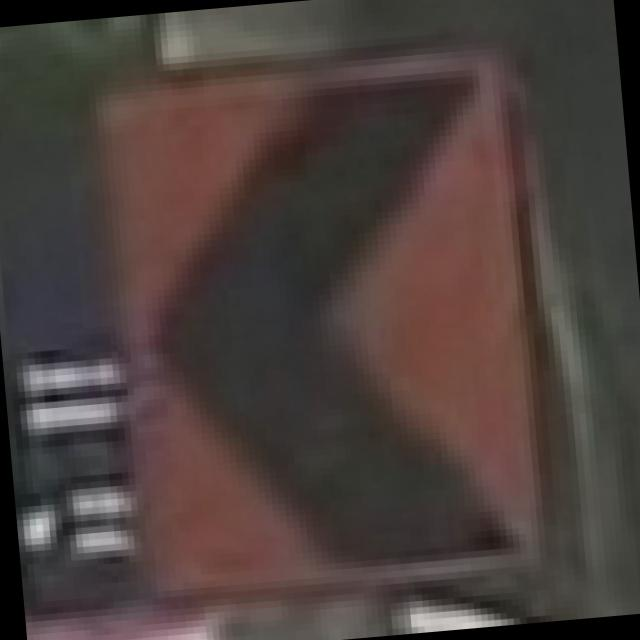curveleft_sign: (73, 33, 568, 620)
